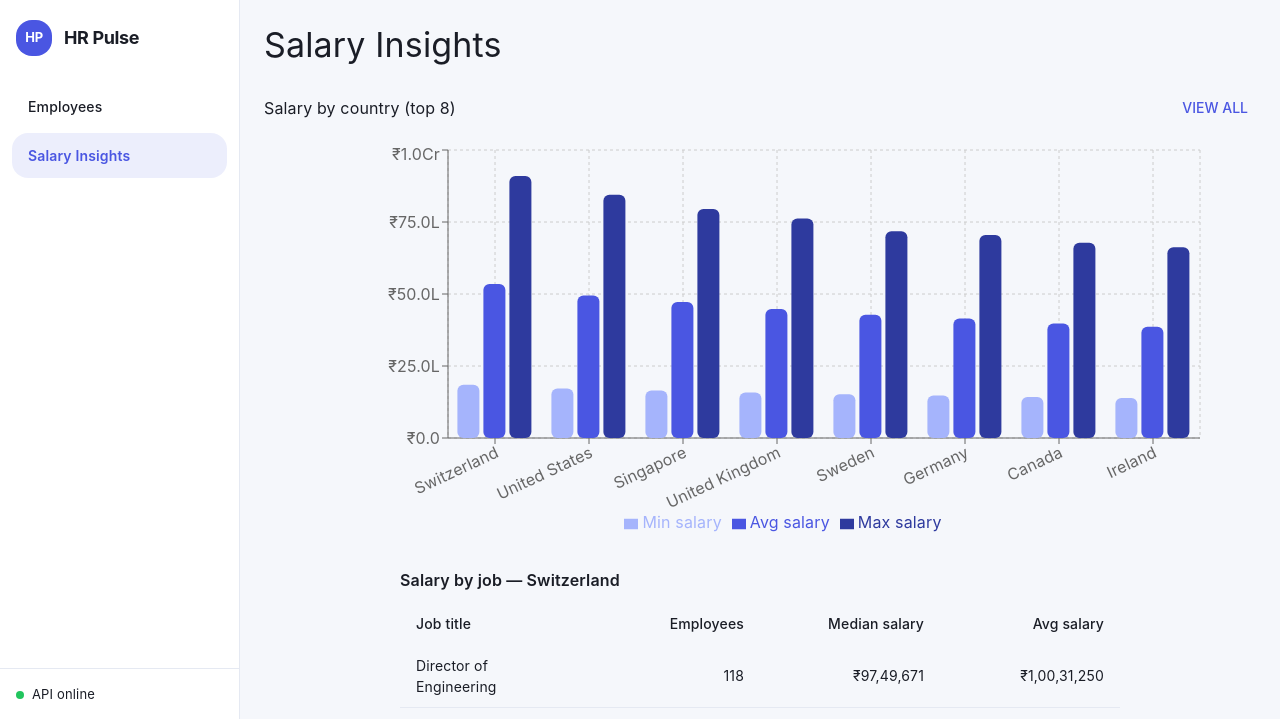
Test case: InsightsPage › navigates to paginated countries list from default seeded dataset
Expected: the element named "average salary by country" is shown, top-left (304, 142), bottom-right (1216, 542)
Step 1. Click the button "View all" → (1215, 108), box top-left (1174, 90), bottom-right (1256, 126)
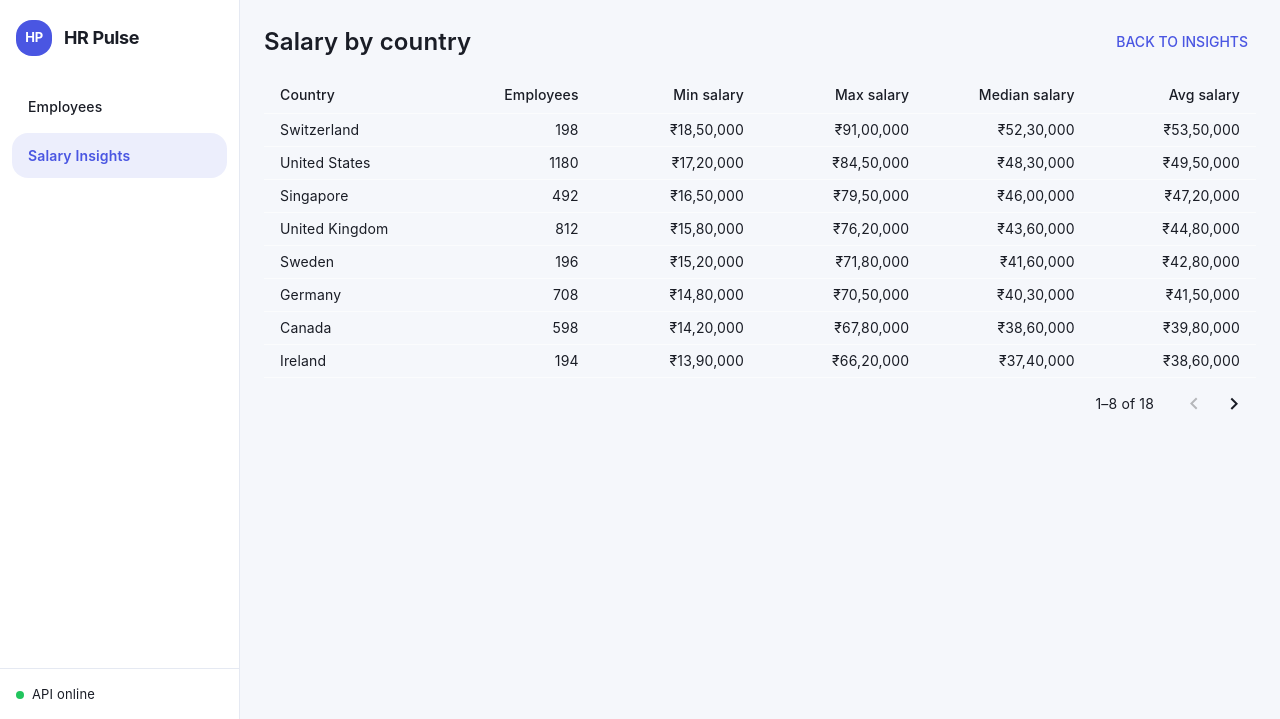
Expected: the cell "Switzerland" is shown, top-left (264, 113), bottom-right (429, 146)
Expected: the cell "United States" is shown, top-left (264, 146), bottom-right (429, 179)
Step 2. Click the button named "go to next page" → (1234, 404), box top-left (1214, 384), bottom-right (1254, 424)
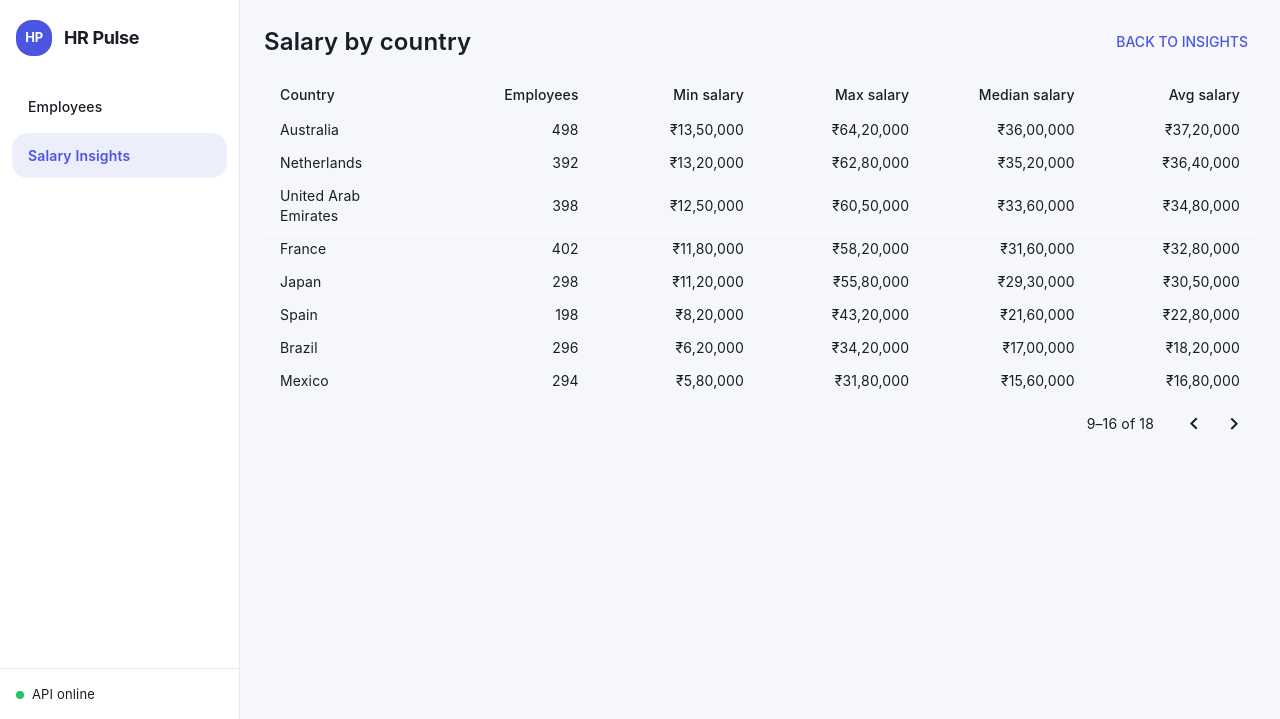
Expected: the cell "Australia" is shown, top-left (264, 113), bottom-right (429, 146)
